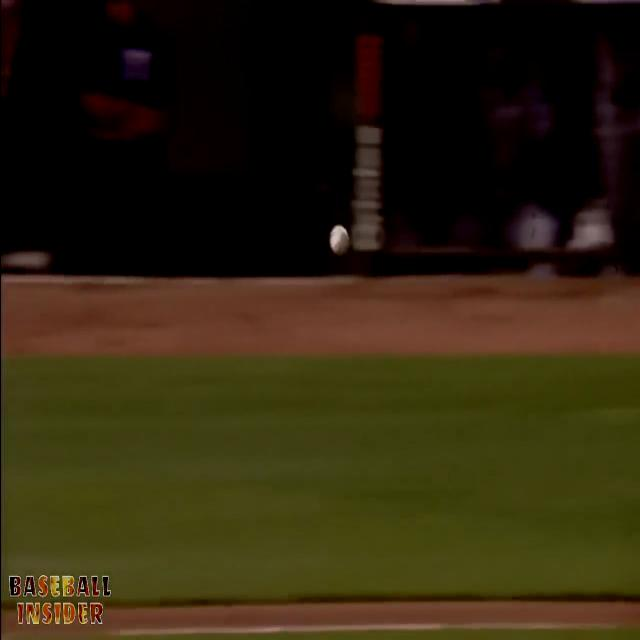bat: (326, 223, 354, 257)
